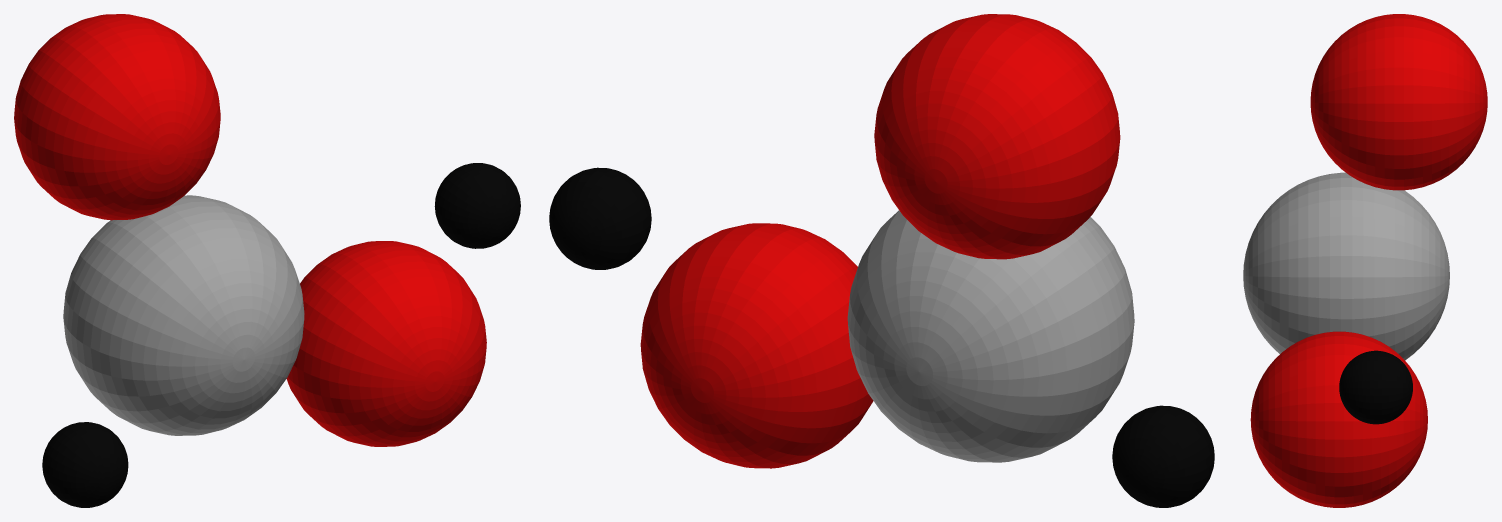
Rendered from Formic Acid.glb.
3 views of the same model, side by side, from view 1: azimuth 30°, elevation 25°; view 2: azimuth 150°, elevation 25°; view 3: azimuth 270°, elevation 25° (orthographic). The views are drawn at different scales.
Parts seen in each view (by area): view 1: world; view 2: world; view 3: world.
Part boxes in pixels (left/top/right/bottom): world: left=14, top=14, right=520, bottom=507; world: left=549, top=14, right=1214, bottom=507; world: left=1243, top=14, right=1487, bottom=507.
Bounding box in the file's own units: 3.4 × 2.84 × 1.66.
